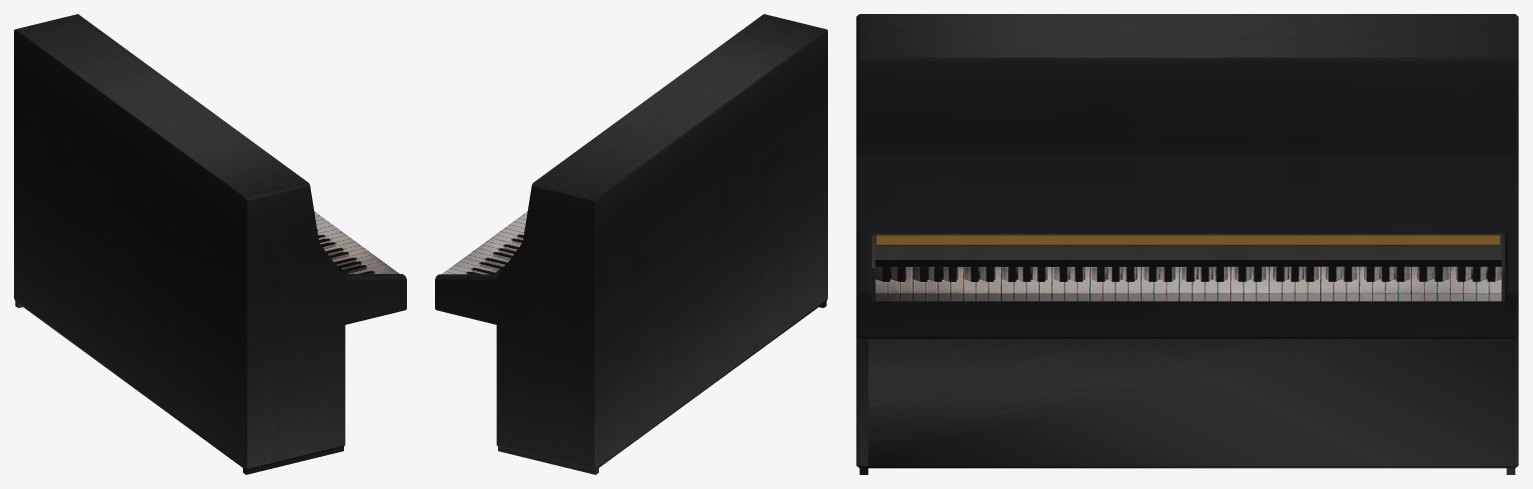
File: PIANO_LP.fbx
3 renders of one model, left to right at view 1: azimuth 30°, elevation 25°; view 2: azimuth 150°, elevation 25°; view 3: azimuth 270°, elevation 25°, orthographic. The views are drawn at different scales.
Parts seen in each view (by area): view 1: PIANO_LP; view 2: PIANO_LP; view 3: PIANO_LP.
Boxes of the visible parts, box(x1,y1,x2,y2) form: PIANO_LP: box(14, 14, 406, 474); PIANO_LP: box(435, 14, 827, 474); PIANO_LP: box(856, 14, 1518, 474).
Size of the model in its own units: 94.2 by 155 by 236.
